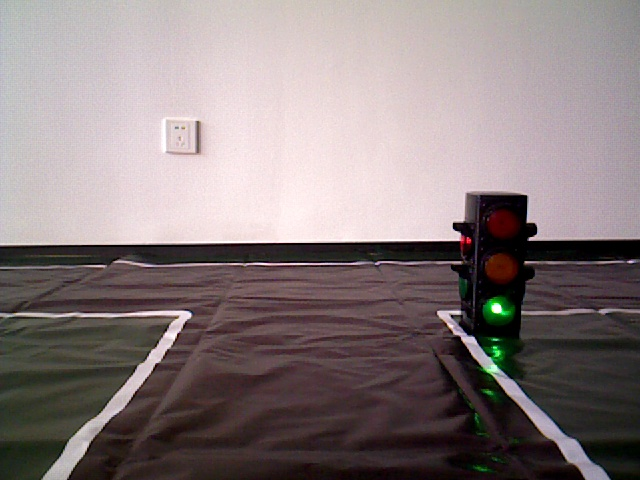green: (463, 198, 517, 331)
